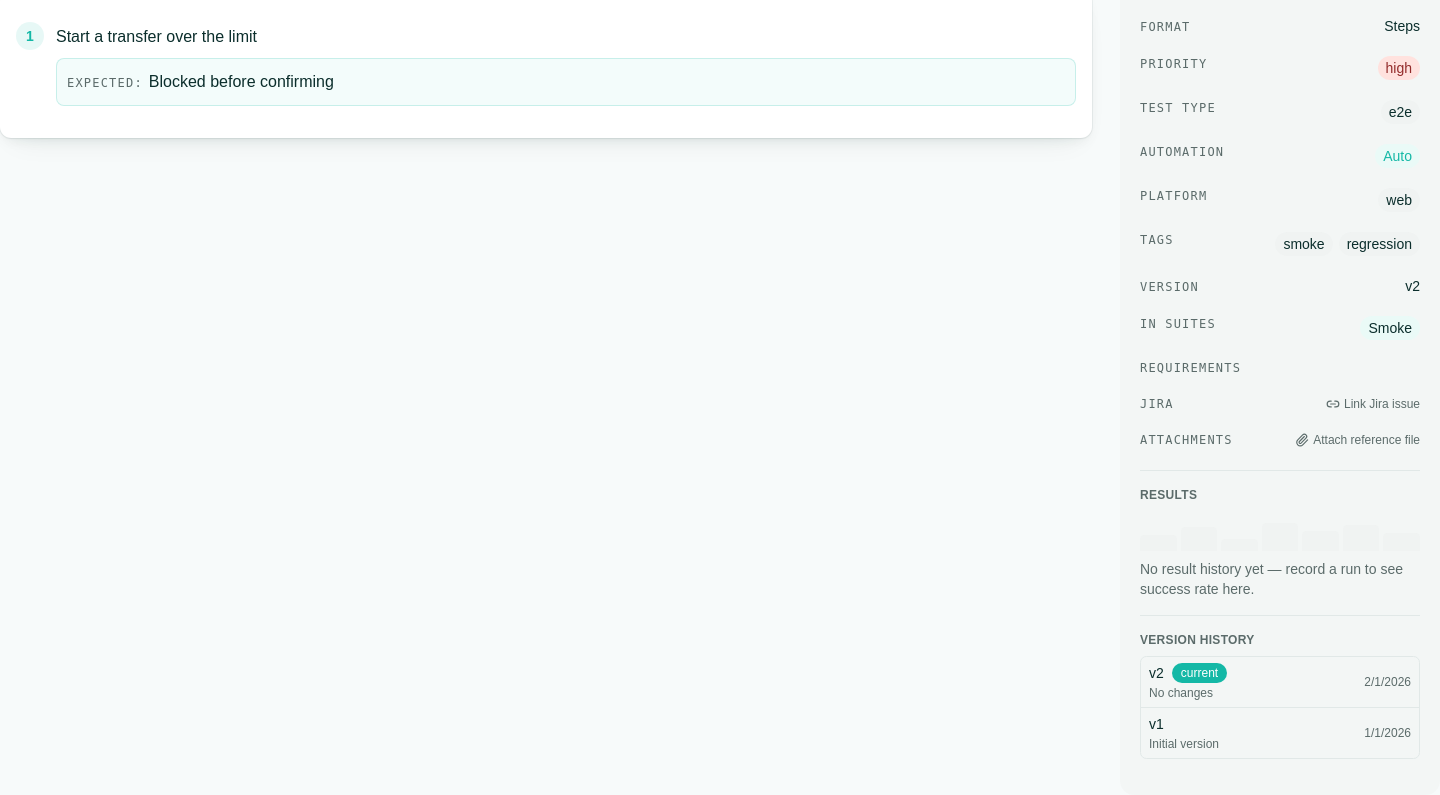
Test: CaseDetailPage › opens the version detail dialog with execution history from the expanded row
This screenshot has width=1440, height=795.
(page scrolled)
What coordinates should you click on to do the following:
click the text "v1"
I would click on:
 (1156, 724)
Its box is top-left (1149, 714), bottom-right (1164, 734).
(page scrolled)
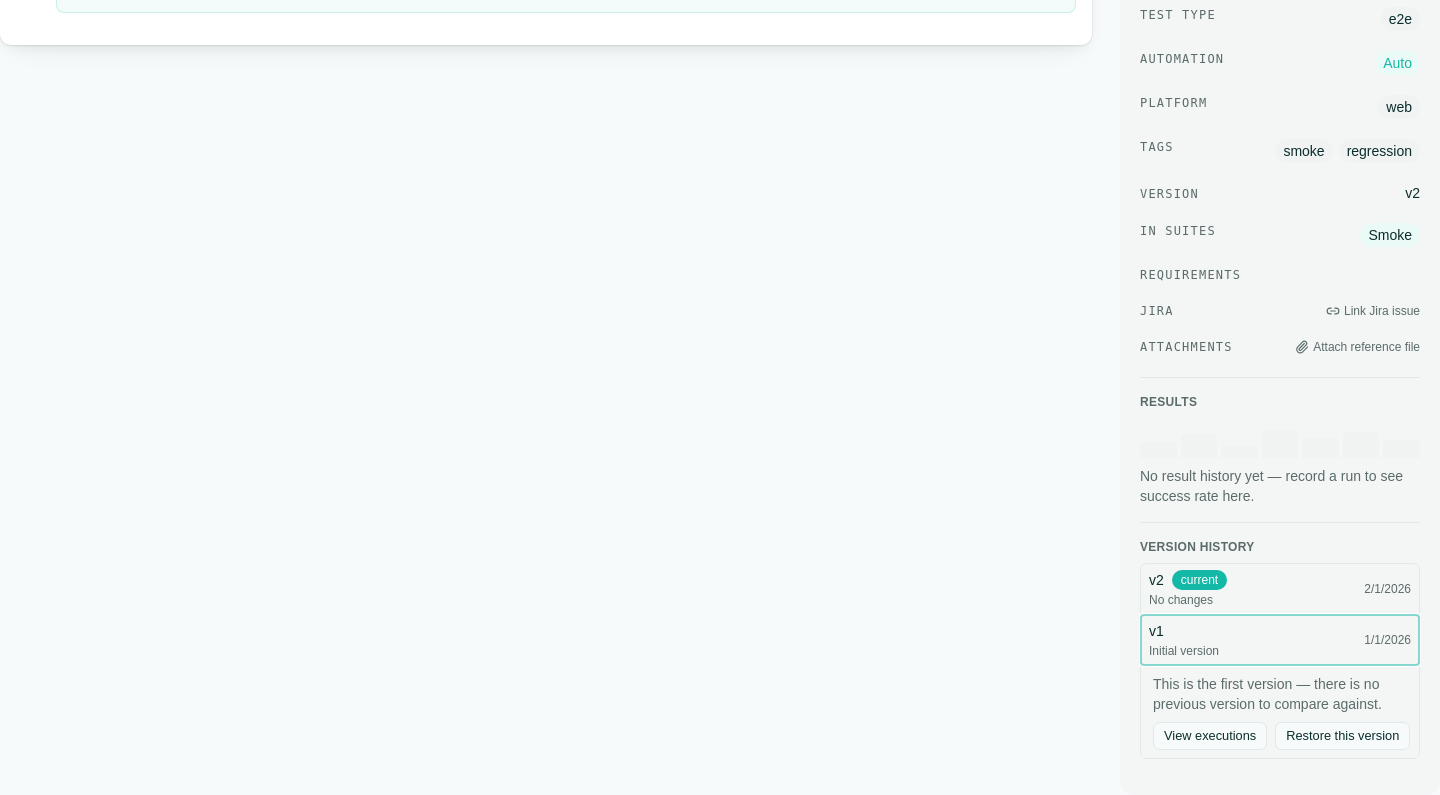
What coordinates should you click on to do the following:
click the button "View executions"
I would click on:
 (1210, 736)
Its box is top-left (1153, 722), bottom-right (1267, 750).
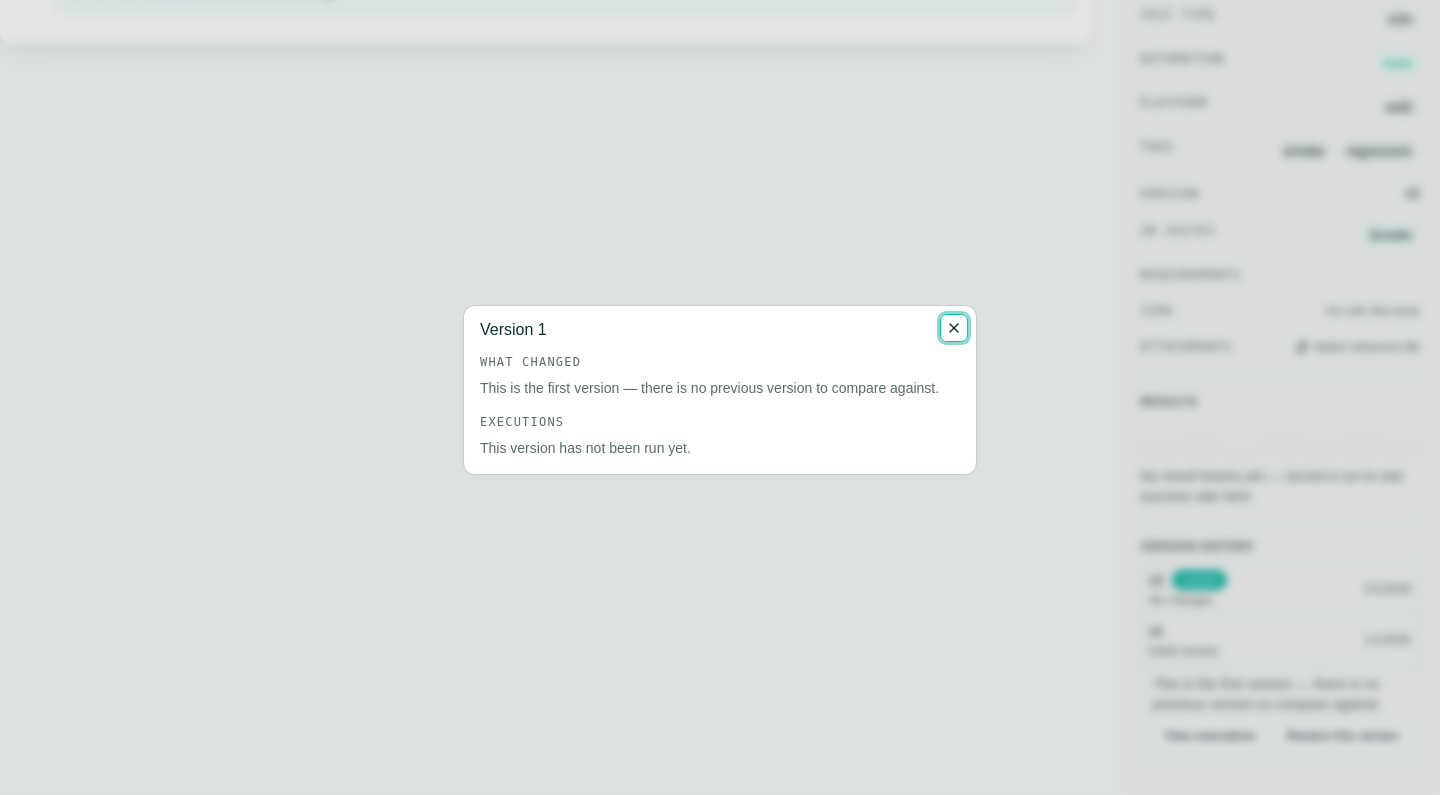
Expected: the dialog is shown, top-left (464, 306), bottom-right (976, 474)
Expected: the heading "Version 1" is shown, top-left (480, 321), bottom-right (547, 338)
